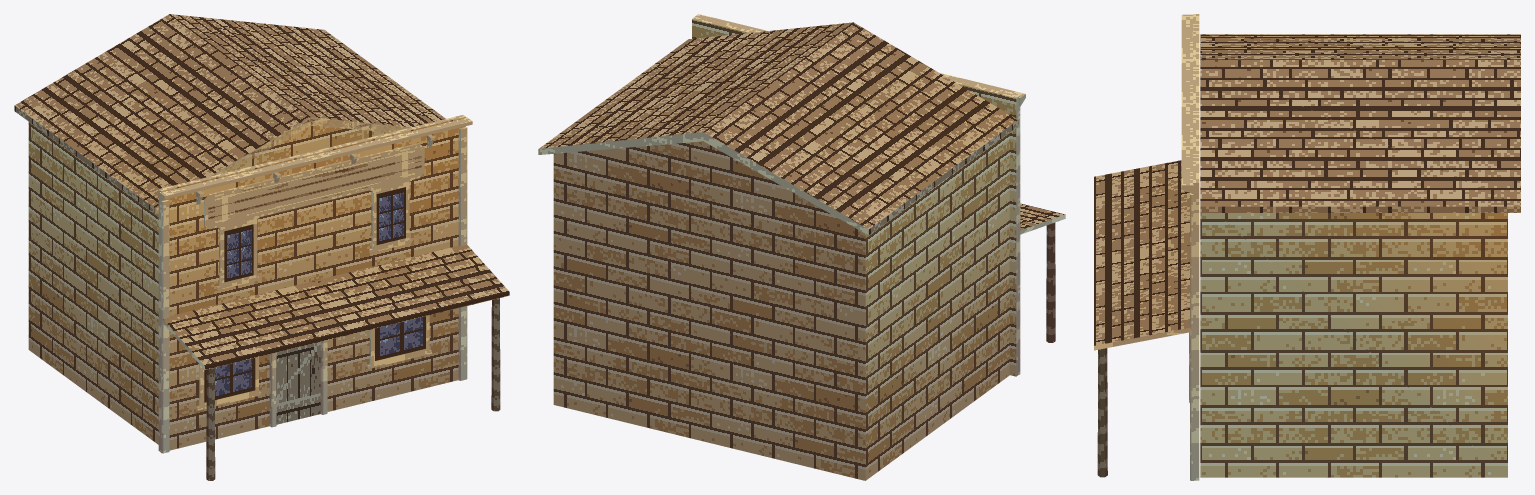
File: wtown.facade__g_brick.glb
3 renders of one model, left to right at view 1: azimuth 30°, elevation 25°; view 2: azimuth 150°, elevation 25°; view 3: azimuth 270°, elevation 25°, orthographic. The views are drawn at different scales.
Parts seen in each view (by area): view 1: kit_roof, kit_front, kit_body, kit_porch, kit_card_panes, kit_trim, kit_windows; view 2: kit_body, kit_roof, kit_front, kit_porch, kit_trim; view 3: kit_body, kit_roof, kit_porch, kit_trim, kit_front.
Boxes of the visible parts, <box> form: kit_roof: <box>14,14,445,214</box>; kit_front: <box>158,115,465,451</box>; kit_body: <box>28,119,407,444</box>; kit_porch: <box>162,245,509,480</box>; kit_card_panes: <box>204,147,425,424</box>; kit_trim: <box>159,117,472,453</box>; kit_windows: <box>196,176,431,410</box>; kit_body: <box>553,132,1009,480</box>; kit_roof: <box>538,22,1018,235</box>; kit_front: <box>692,17,1019,376</box>; kit_porch: <box>1020,203,1065,342</box>; kit_trim: <box>693,14,1025,374</box>; kit_body: <box>1200,213,1507,477</box>; kit_roof: <box>1200,34,1520,212</box>; kit_porch: <box>1094,160,1190,477</box>; kit_trim: <box>1181,14,1193,480</box>; kit_front: <box>1193,14,1199,480</box>.
Bounding box in the file's own units: 7.94 × 7.24 × 8.32.
7 materials, 7 textured.
